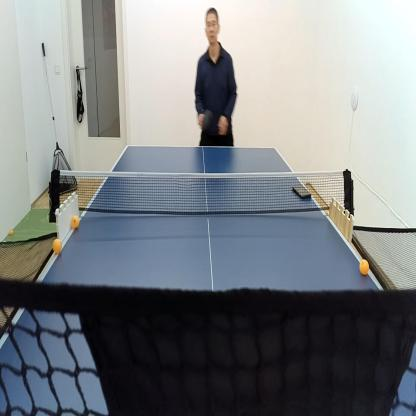Ball: (358, 260, 368, 274), (54, 238, 62, 254), (72, 217, 79, 230), (10, 230, 13, 235)
